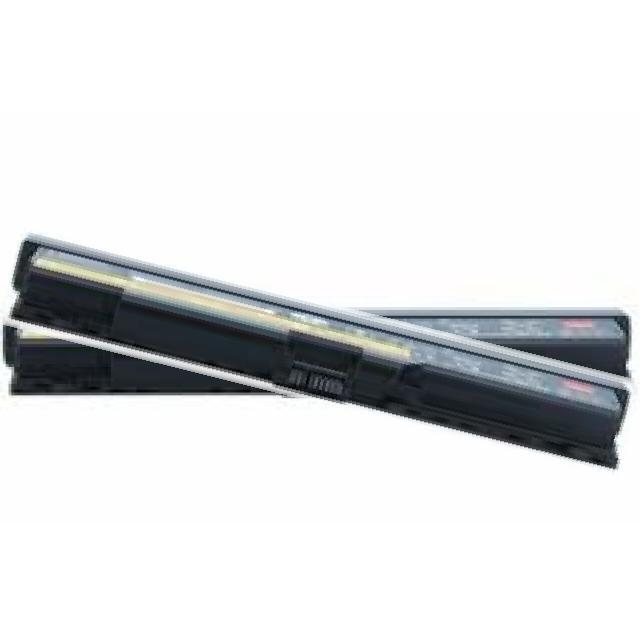Battery: (0, 234, 638, 476), (4, 317, 307, 402), (367, 302, 637, 375)
